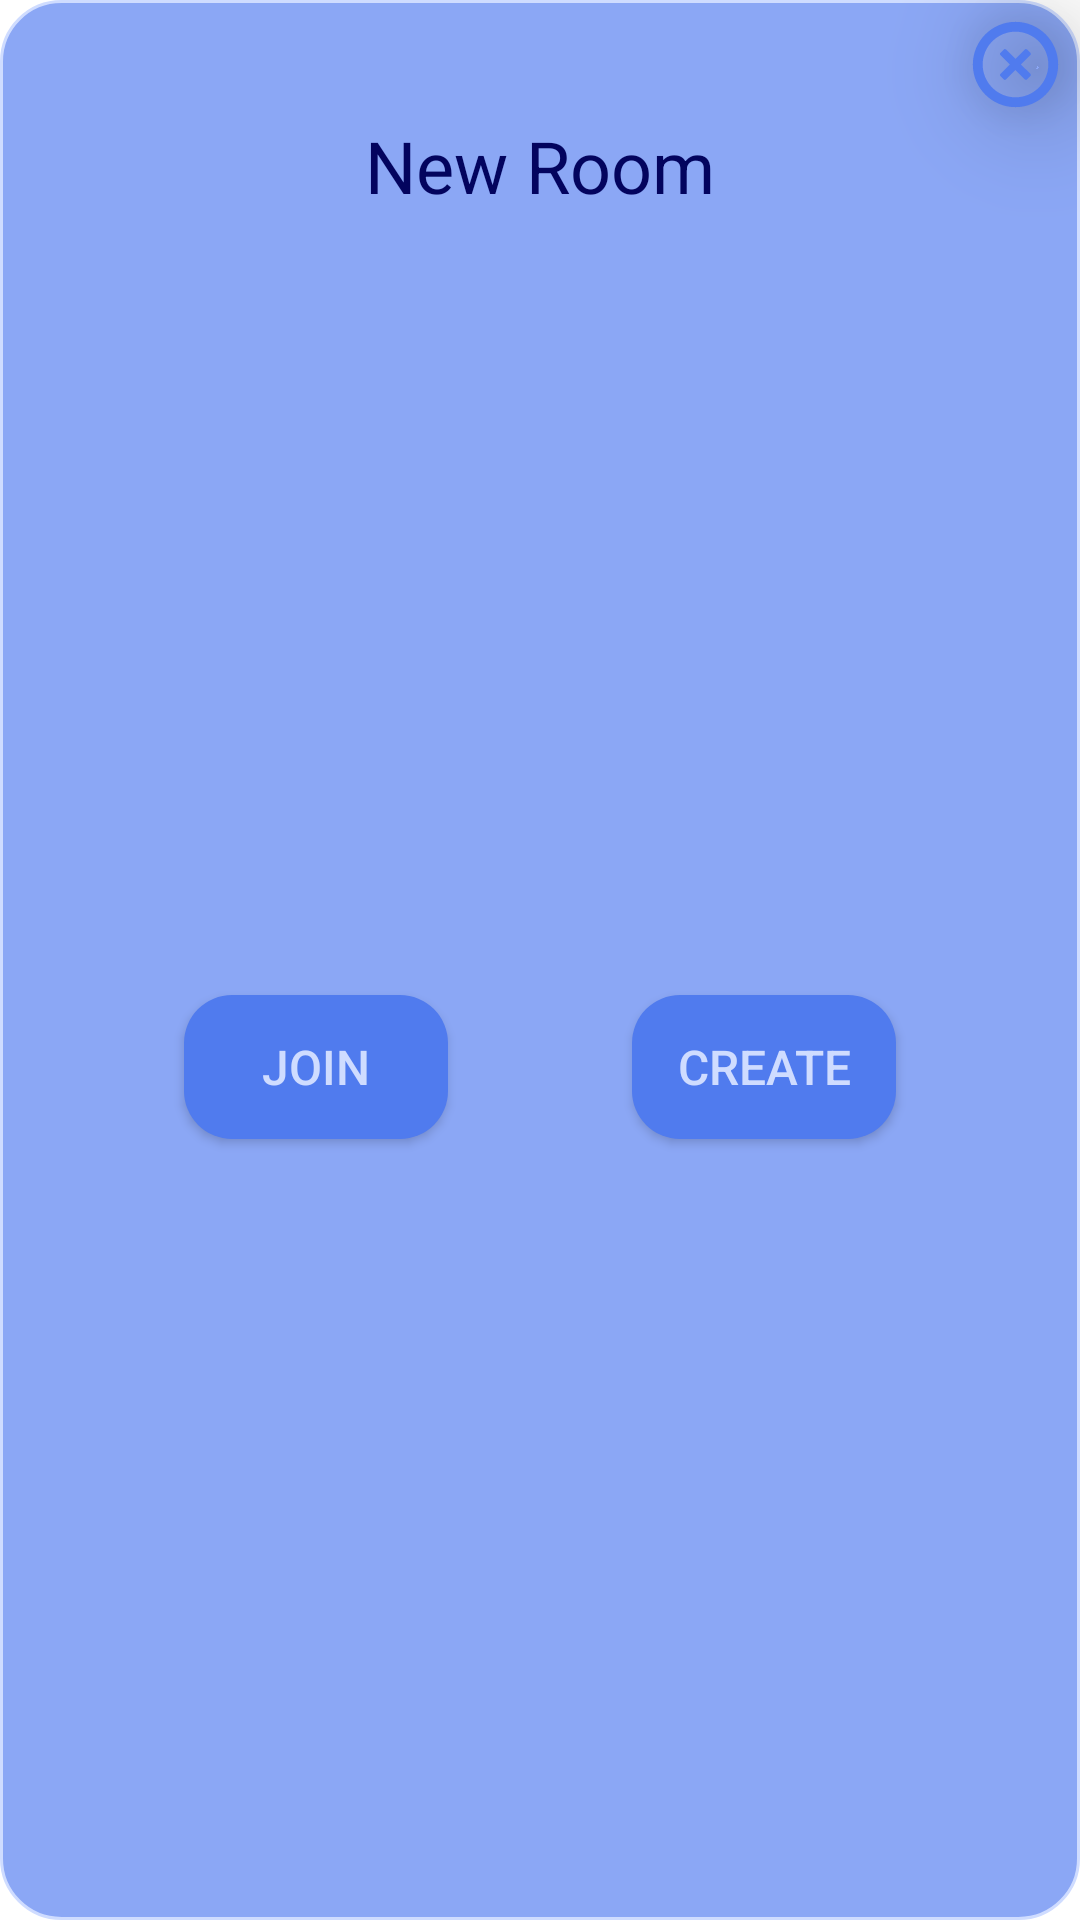

Screen size 1080 x 1920. Icon name, then its box in pixels as (x1, y1, x2, y2):
cancel: (973, 22, 1058, 107)
